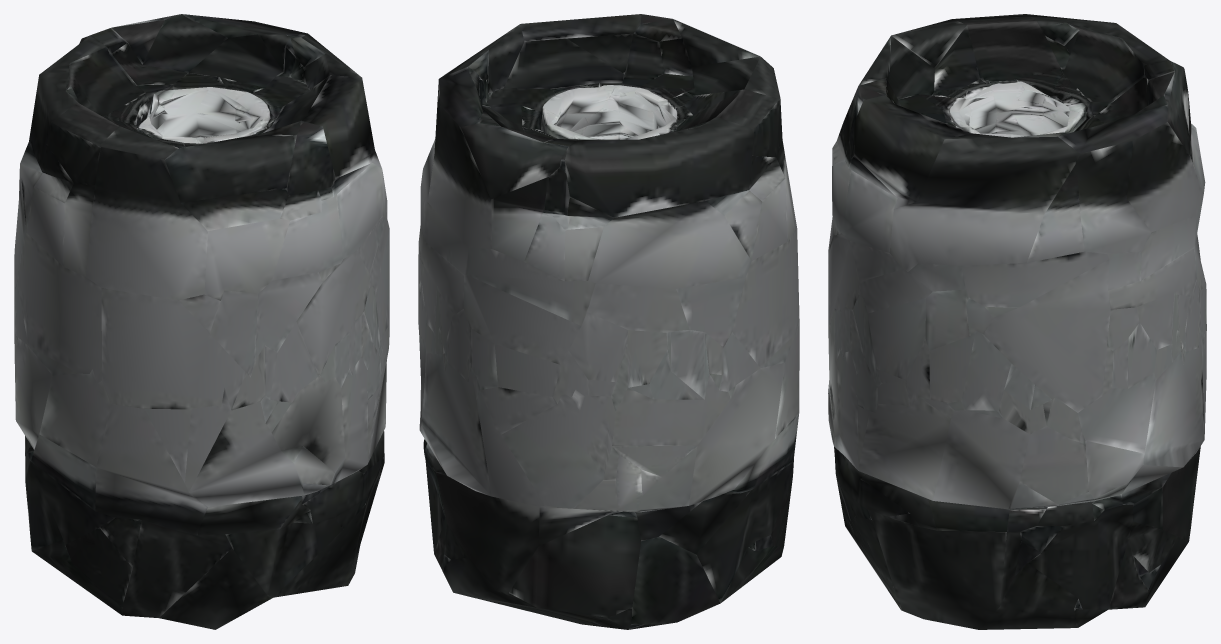
The model's file is portabombilla.glb.
3 renders of one model, left to right at view 1: azimuth 30°, elevation 25°; view 2: azimuth 150°, elevation 25°; view 3: azimuth 270°, elevation 25°, orthographic.
Size of the model in its own units: 1.34 by 1.9 by 1.33.
1 material, 1 textured.
